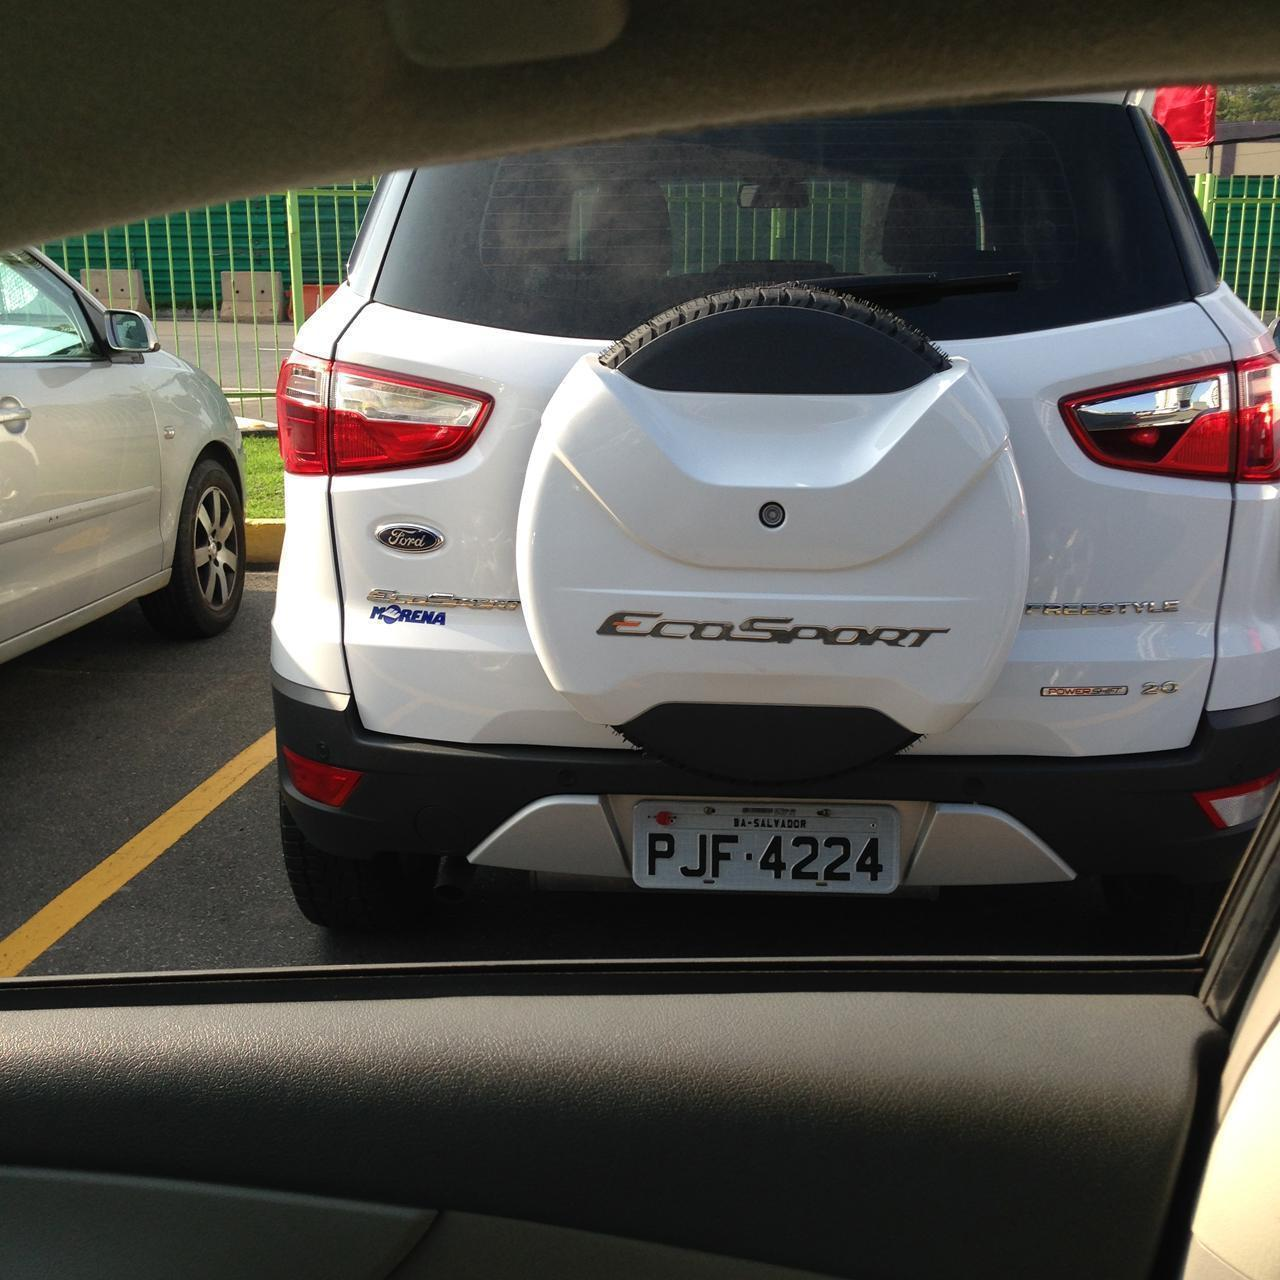placa de veiculo: (608, 780, 963, 920)
